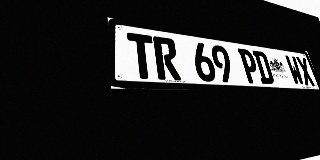6: (191, 41, 217, 82)
9: (210, 44, 235, 83)
D: (252, 50, 275, 84)
P: (237, 48, 261, 84)
R: (153, 36, 181, 80)
T: (127, 32, 157, 79)
W: (284, 55, 305, 85)
X: (295, 56, 316, 86)
